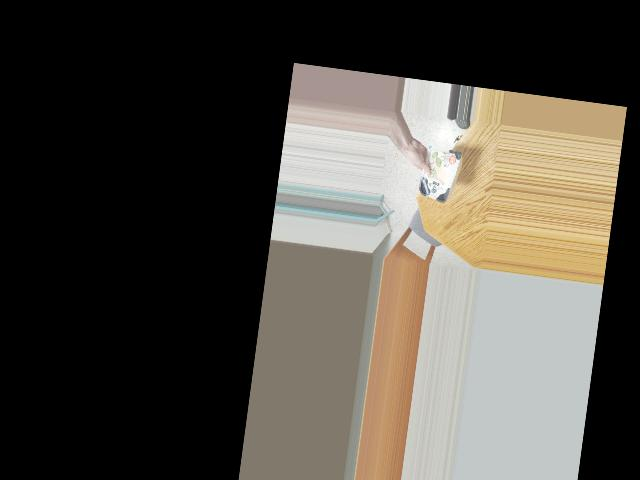cheese: (415, 145, 463, 203)
